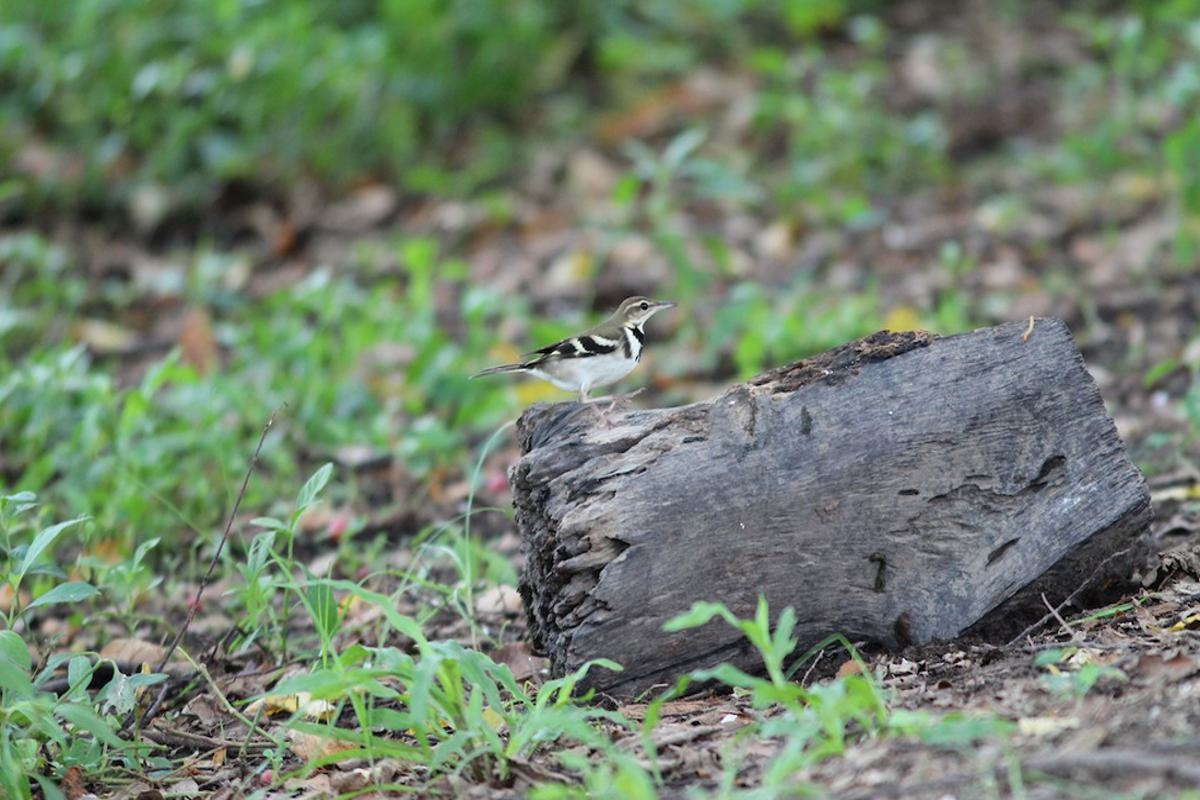wagtail: (484, 287, 697, 433)
